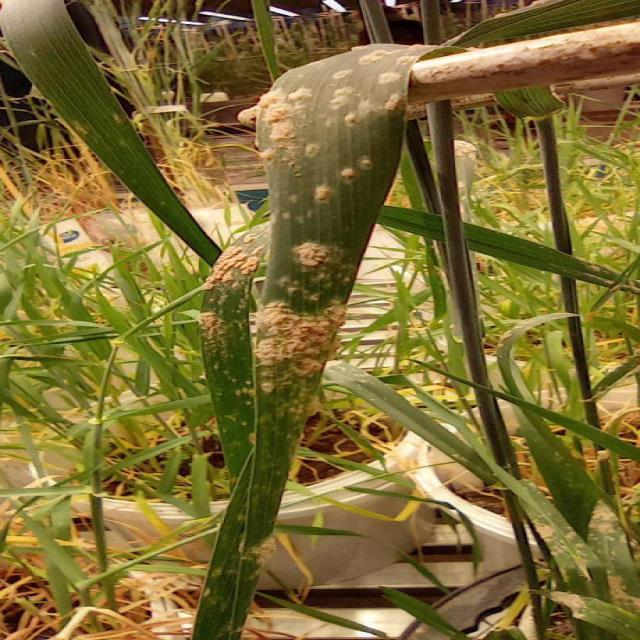Powdery Mildew: (204, 35, 406, 582)
